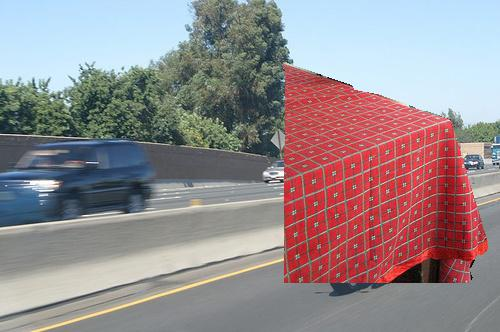tampered: (284, 61, 488, 283)
